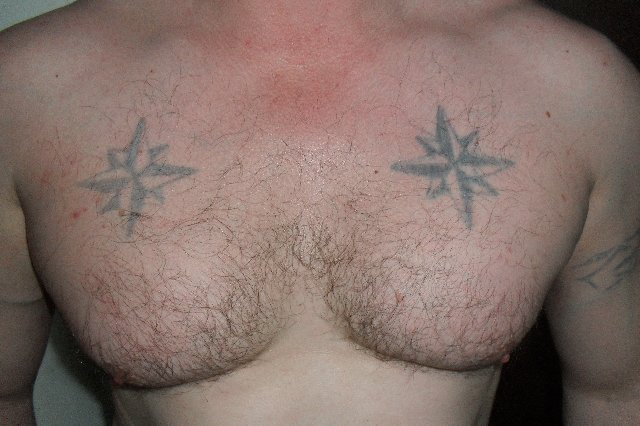tatu4_zvezda: (378, 95, 526, 239), (70, 113, 201, 238)
